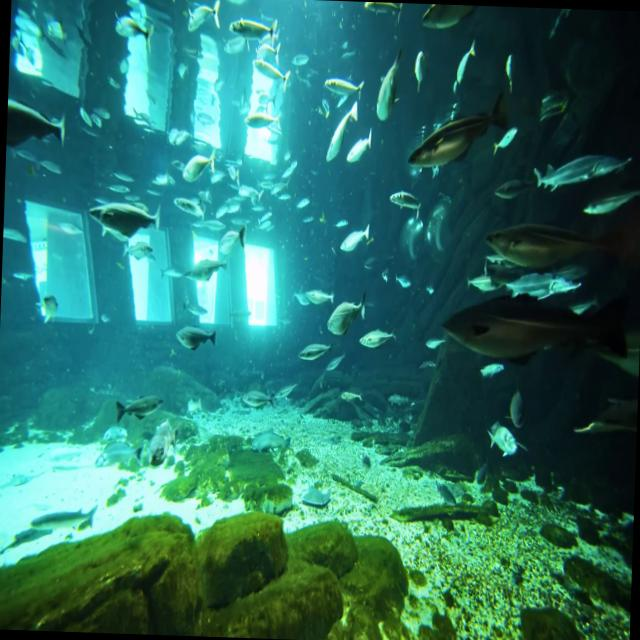fish: (439, 280, 625, 390), (395, 84, 503, 180), (530, 136, 639, 203), (5, 92, 72, 164), (76, 186, 169, 237), (314, 94, 360, 180), (326, 278, 378, 348), (106, 376, 162, 436), (372, 36, 402, 148), (161, 251, 227, 297), (312, 52, 366, 106), (97, 0, 156, 48), (164, 319, 222, 364), (174, 0, 227, 46), (409, 3, 477, 38), (222, 8, 278, 50), (332, 212, 376, 264), (284, 276, 338, 317), (480, 424, 524, 465), (448, 35, 478, 92), (352, 322, 412, 349), (289, 329, 332, 366), (486, 120, 518, 164), (500, 384, 533, 426), (407, 40, 431, 96), (493, 48, 518, 97), (477, 352, 507, 382)
